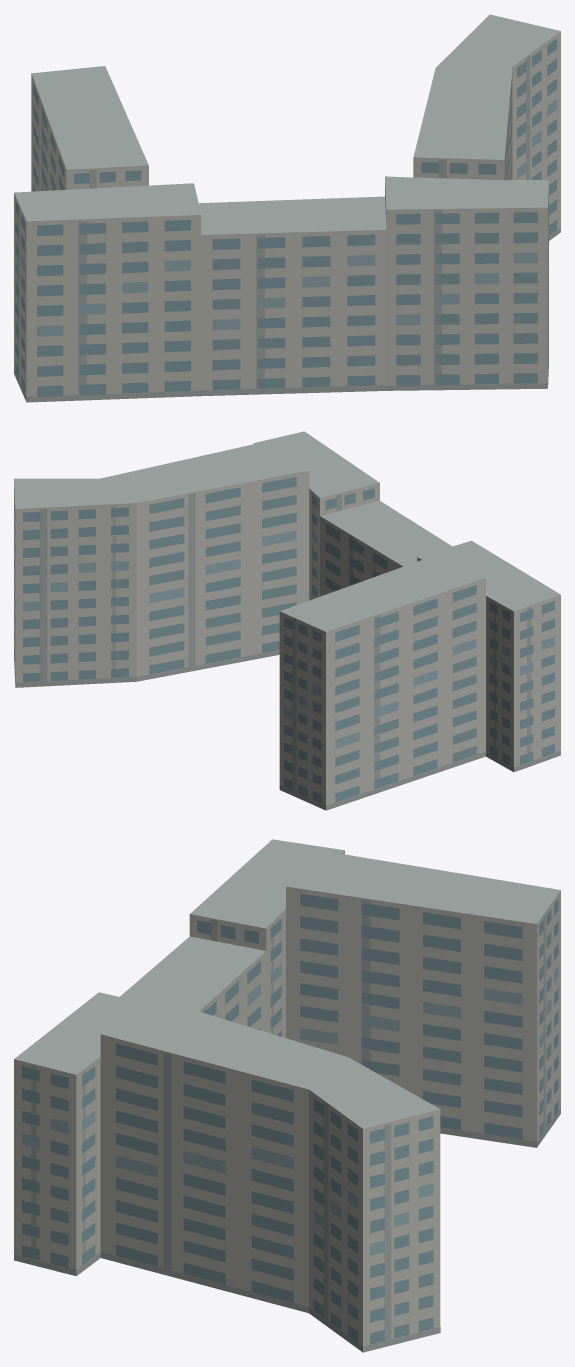
File: residential-a0e15a40-6450-49dd-9ee7-fb6dc2d65b17.glb
3 views of the same model, one above another, from view 1: azimuth 30°, elevation 25°; view 2: azimuth 150°, elevation 25°; view 3: azimuth 270°, elevation 25° (orthographic). The views are drawn at different scales.
Visible parts, largest first — view 1: residential-a0e15a40-6450-49dd-9ee7-fb6dc2d65b17.tmp; view 2: residential-a0e15a40-6450-49dd-9ee7-fb6dc2d65b17.tmp; view 3: residential-a0e15a40-6450-49dd-9ee7-fb6dc2d65b17.tmp.
Boxes of the visible parts, <box> form: residential-a0e15a40-6450-49dd-9ee7-fb6dc2d65b17.tmp: <box>14,14,560,402</box>; residential-a0e15a40-6450-49dd-9ee7-fb6dc2d65b17.tmp: <box>14,431,560,810</box>; residential-a0e15a40-6450-49dd-9ee7-fb6dc2d65b17.tmp: <box>14,839,560,1352</box>.
Bounding box in the file's own units: 91.21 × 30.5 × 67.58.
